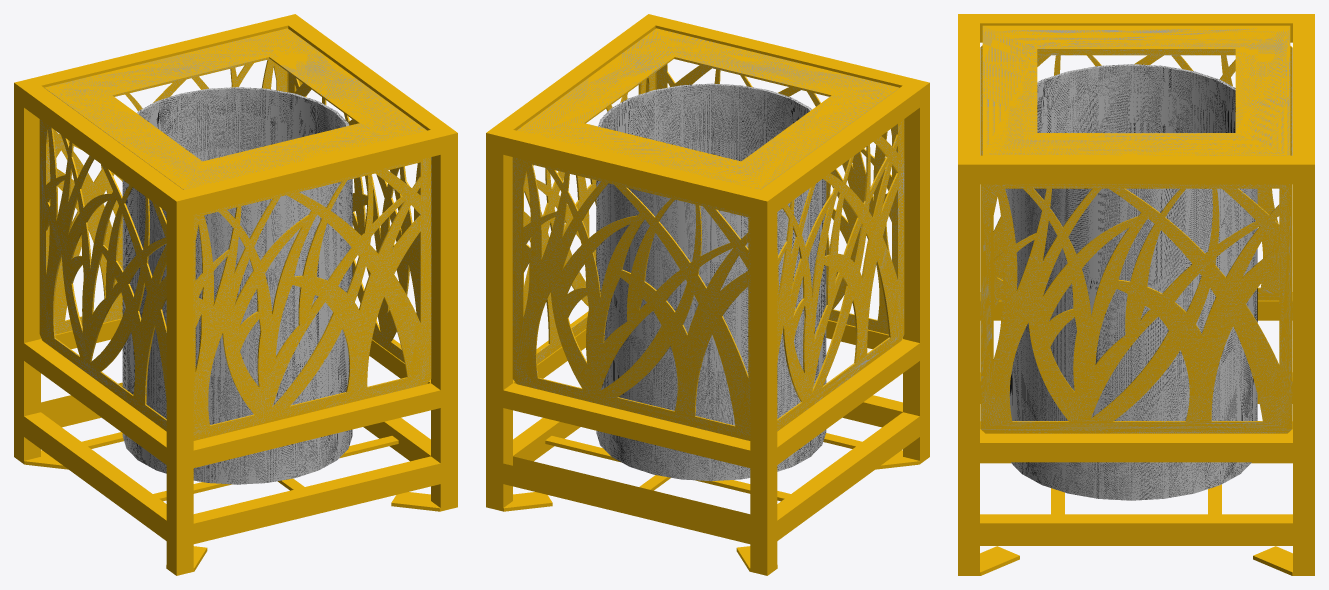
The picture shows the model from 3 angles, left to right: view 1: azimuth 30°, elevation 25°; view 2: azimuth 150°, elevation 25°; view 3: azimuth 270°, elevation 25°; orthographic projection. The views are drawn at different scales.
Parts seen in each view (by area): view 1: mesh4_mesh4-geometry, mesh5_mesh5-geometry, mesh8_mesh8-geometry, mesh50_mesh50-geometry, mesh3_mesh3-geometry, mesh21_mesh21-geometry, mesh28_mesh28-geometry, mesh11_mesh11-geometry, mesh6_mesh6-geometry, mesh2_mesh2-geometry, mesh1_mesh1-geometry, mesh24_mesh24-geometry (+2 smaller); view 2: mesh5_mesh5-geometry, mesh2_mesh2-geometry, mesh11_mesh11-geometry, mesh50_mesh50-geometry, mesh3_mesh3-geometry, mesh28_mesh28-geometry, mesh21_mesh21-geometry, mesh6_mesh6-geometry, mesh8_mesh8-geometry, mesh4_mesh4-geometry, mesh1_mesh1-geometry, mesh25_mesh25-geometry (+2 smaller); view 3: mesh1_mesh1-geometry, mesh5_mesh5-geometry, mesh6_mesh6-geometry, mesh50_mesh50-geometry, mesh28_mesh28-geometry, mesh11_mesh11-geometry, mesh8_mesh8-geometry, mesh21_mesh21-geometry, mesh3_mesh3-geometry, mesh13_mesh13-geometry, mesh15_mesh15-geometry, mesh25_mesh25-geometry.
Boxes of the visible parts, x1,y1,x2,y2 form: mesh4_mesh4-geometry: (193, 157, 431, 440); mesh5_mesh5-geometry: (122, 87, 352, 484); mesh8_mesh8-geometry: (166, 127, 457, 572); mesh50_mesh50-geometry: (44, 28, 426, 189); mesh3_mesh3-geometry: (39, 119, 166, 431); mesh21_mesh21-geometry: (14, 78, 193, 571); mesh28_mesh28-geometry: (24, 382, 440, 543); mesh11_mesh11-geometry: (14, 15, 302, 460); mesh6_mesh6-geometry: (279, 14, 457, 507); mesh2_mesh2-geometry: (47, 58, 287, 334); mesh1_mesh1-geometry: (288, 73, 419, 362); mesh24_mesh24-geometry: (153, 436, 398, 501); mesh5_mesh5-geometry: (596, 83, 826, 481); mesh2_mesh2-geometry: (512, 157, 750, 440); mesh11_mesh11-geometry: (486, 127, 777, 572); mesh50_mesh50-geometry: (517, 28, 899, 189); mesh3_mesh3-geometry: (777, 119, 904, 431); mesh28_mesh28-geometry: (503, 395, 919, 543); mesh21_mesh21-geometry: (750, 78, 929, 571); mesh6_mesh6-geometry: (486, 14, 664, 507); mesh8_mesh8-geometry: (638, 14, 929, 460); mesh4_mesh4-geometry: (656, 58, 896, 334); mesh1_mesh1-geometry: (524, 73, 655, 364); mesh25_mesh25-geometry: (545, 436, 790, 501); mesh1_mesh1-geometry: (980, 184, 1292, 433); mesh5_mesh5-geometry: (1005, 64, 1257, 500); mesh6_mesh6-geometry: (958, 155, 1314, 572); mesh50_mesh50-geometry: (982, 25, 1290, 155); mesh28_mesh28-geometry: (980, 372, 1292, 545); mesh11_mesh11-geometry: (1293, 14, 1314, 572); mesh8_mesh8-geometry: (958, 14, 979, 572); mesh21_mesh21-geometry: (958, 14, 1314, 320); mesh3_mesh3-geometry: (980, 45, 1292, 300); mesh13_mesh13-geometry: (1253, 546, 1314, 575); mesh15_mesh15-geometry: (958, 546, 1019, 575); mesh25_mesh25-geometry: (1208, 462, 1292, 514).
Size of the model in its own units: 0.5258 by 0.6686 by 0.5258.
